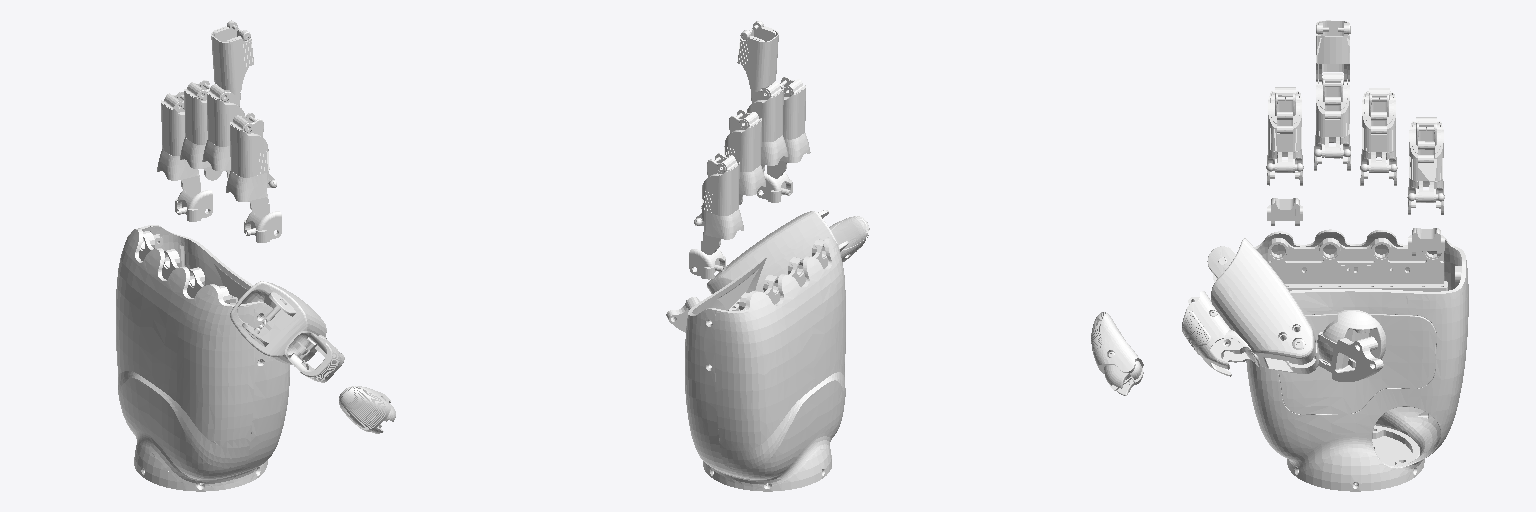
URDF robot description (linkerhand_l21_left):
<?xml version="1.0" encoding="utf-8"?>
<!-- This URDF was automatically created by SolidWorks to URDF Exporter! Originally created by [author] ([email redacted]) 
     Commit Version: 1.6.0-1-g15f4949  Build Version: 1.6.7594.29634
     For more information, please see http://wiki.ros.org/sw_urdf_exporter -->
<robot
  name="linkerhand_l21_left">
  <link
    name="hand_base_link">
    <inertial>
      <origin
        xyz="0.027711 0.0087195 0.076284"
        rpy="0 0 0" />
      <mass
        value="1.5785E-07" />
      <inertia
        ixx="4.2149E-15"
        ixy="2.3826E-15"
        ixz="7.6961E-16"
        iyy="5.6185E-14"
        iyz="-8.7449E-16"
        izz="5.3828E-14" />
    </inertial>
    <visual>
      <origin
        xyz="0 0 0"
        rpy="0 0 0" />
      <geometry>
        <mesh
          filename="meshes/hand_base_link.STL" />
      </geometry>
      <material
        name="">
        <color
          rgba="1 1 1 1" />
      </material>
    </visual>
    <collision>
      <origin
        xyz="0 0 0"
        rpy="0 0 0" />
      <geometry>
        <mesh
          filename="meshes/hand_base_link.STL" />
      </geometry>
    </collision>
  </link>
  <link
    name="index_metacarpals">
    <inertial>
      <origin
        xyz="0.0053256 0.0026647 -0.015279"
        rpy="0 0 0" />
      <mass
        value="0.00041989" />
      <inertia
        ixx="1.2323E-08"
        ixy="-1.6725E-11"
        ixz="4.7753E-10"
        iyy="5.5651E-09"
        iyz="7.8846E-11"
        izz="7.5215E-09" />
    </inertial>
    <visual>
      <origin
        xyz="0 0 0"
        rpy="0 0 0" />
      <geometry>
        <mesh
          filename="meshes/index_metacarpals.STL" />
      </geometry>
      <material
        name="">
        <color
          rgba="1 1 1 1" />
      </material>
    </visual>
    <collision>
      <origin
        xyz="0 0 0"
        rpy="0 0 0" />
      <geometry>
        <mesh
          filename="meshes/index_metacarpals.STL" />
      </geometry>
    </collision>
  </link>
  <joint
    name="index_mcp_roll"
    type="revolute">
    <origin
      xyz="0.0059834 -0.032908 0.13338"
      rpy="-0.0056645 0 0" />
    <parent
      link="hand_base_link" />
    <child
      link="index_metacarpals" />
    <axis
      xyz="1 0 0" />
    <limit
      lower="-0.18"
      upper="0.18"
      effort="100"
      velocity="1" />
  </joint>
  <link
    name="index_proximal">
    <inertial>
      <origin
        xyz="0.00827300262446084 0.0206946536676659 -0.0594111984214959"
        rpy="0 0 0" />
      <mass
        value="0.00310189617600549" />
      <inertia
        ixx="6.94827809852598E-06"
        ixy="-7.30360932101661E-07"
        ixz="-3.50357323679268E-07"
        iyy="3.62827463376843E-06"
        iyz="1.32196221507174E-06"
        izz="4.38448341497944E-06" />
    </inertial>
    <visual>
      <origin
        xyz="0 0 0"
        rpy="0 0 0" />
      <geometry>
        <mesh
          filename="meshes/index_proximal.STL" />
      </geometry>
      <material
        name="">
        <color
          rgba="1 1 1 1" />
      </material>
    </visual>
    <collision>
      <origin
        xyz="0 0 0"
        rpy="0 0 0" />
      <geometry>
        <mesh
          filename="meshes/index_proximal.STL" />
      </geometry>
    </collision>
  </link>
  <joint
    name="index_mcp_pitch"
    type="revolute">
    <origin
      xyz="0.002358 -0.00022359 0.018075"
      rpy="0 0 0" />
    <parent
      link="index_metacarpals" />
    <child
      link="index_proximal" />
    <axis
      xyz="0 1 0" />
    <limit
      lower="0"
      upper="1.57"
      effort="100"
      velocity="1" />
  </joint>
  <link
    name="index_middle">
    <inertial>
      <origin
        xyz="0.0084310026295624 0.0206979632977038 -0.103411198516156"
        rpy="0 0 0" />
      <mass
        value="0.00310189617600549" />
      <inertia
        ixx="6.94827809845368E-06"
        ixy="-7.303609322448E-07"
        ixz="-3.50357323896878E-07"
        iyy="3.62827463378371E-06"
        iyz="1.32196221500947E-06"
        izz="4.38448341503647E-06" />
    </inertial>
    <visual>
      <origin
        xyz="0 0 0"
        rpy="0 0 0" />
      <geometry>
        <mesh
          filename="meshes/index_middle.STL" />
      </geometry>
      <material
        name="">
        <color
          rgba="1 1 1 1" />
      </material>
    </visual>
    <collision>
      <origin
        xyz="0 0 0"
        rpy="0 0 0" />
      <geometry>
        <mesh
          filename="meshes/index_middle.STL" />
      </geometry>
    </collision>
  </link>
  <joint
    name="index_pip"
    type="revolute">
    <origin
      xyz="-0.000158 0 0.044"
      rpy="0 0 0" />
    <parent
      link="index_proximal" />
    <child
      link="index_middle" />
    <axis
      xyz="0 1 0" />
    <limit
      lower="0"
      upper="1.57"
      effort="100"
      velocity="1" />
  </joint>
  <link
    name="middle_metacarpals">
    <inertial>
      <origin
        xyz="0.00809602648732219 0.000967328077867452 -0.0158492205753797"
        rpy="0 0 0" />
      <mass
        value="0.000489979599946496" />
      <inertia
        ixx="1.70467250478746E-08"
        ixy="-2.49125202430984E-11"
        ixz="4.77383630918998E-10"
        iyy="6.25256440139051E-09"
        iyz="-7.03912454501969E-11"
        izz="1.16457113735344E-08" />
    </inertial>
    <visual>
      <origin
        xyz="0 0 0"
        rpy="0 0 0" />
      <geometry>
        <mesh
          filename="meshes/middle_metacarpals.STL" />
      </geometry>
      <material
        name="">
        <color
          rgba="1 1 1 1" />
      </material>
    </visual>
    <collision>
      <origin
        xyz="0 0 0"
        rpy="0 0 0" />
      <geometry>
        <mesh
          filename="meshes/middle_metacarpals.STL" />
      </geometry>
    </collision>
  </link>
  <joint
    name="middle_mcp_roll"
    type="revolute">
    <origin
      xyz="0.0059834 -0.010766 0.14075"
      rpy="-0.0056645 0 0" />
    <parent
      link="hand_base_link" />
    <child
      link="middle_metacarpals" />
    <axis
      xyz="1 0 0" />
    <limit
      lower="-0.18"
      upper="0.18"
      effort="100"
      velocity="1" />
  </joint>
  <link
    name="middle_proximal">
    <inertial>
      <origin
        xyz="0.00827258573746481 -0.00140534633098602 -0.0669111984292696"
        rpy="0 0 0" />
      <mass
        value="0.00310189617600549" />
      <inertia
        ixx="6.94827809852754E-06"
        ixy="-7.30360932098109E-07"
        ixz="-3.50357323677855E-07"
        iyy="3.62827463376687E-06"
        iyz="1.32196221507212E-06"
        izz="4.38448341497944E-06" />
    </inertial>
    <visual>
      <origin
        xyz="0 0 0"
        rpy="0 0 0" />
      <geometry>
        <mesh
          filename="meshes/middle_proximal.STL" />
      </geometry>
      <material
        name="">
        <color
          rgba="1 1 1 1" />
      </material>
    </visual>
    <collision>
      <origin
        xyz="0 0 0"
        rpy="0 0 0" />
      <geometry>
        <mesh
          filename="meshes/middle_proximal.STL" />
      </geometry>
    </collision>
  </link>
  <joint
    name="middle_mcp_pitch"
    type="revolute">
    <origin
      xyz="0.0023586 -0.0002236 0.018075"
      rpy="0 0 0" />
    <parent
      link="middle_metacarpals" />
    <child
      link="middle_proximal" />
    <axis
      xyz="0 1 0" />
    <limit
      lower="0"
      upper="1.57"
      effort="100"
      velocity="1" />
  </joint>
  <link
    name="middle_middle">
    <inertial>
      <origin
        xyz="0.00782855721567354 -0.00141464740089148 -0.110909241690445"
        rpy="0 0 0" />
      <mass
        value="0.00310189617600549" />
      <inertia
        ixx="6.94827809845522E-06"
        ixy="-7.30360932241238E-07"
        ixz="-3.50357323895577E-07"
        iyy="3.62827463378255E-06"
        iyz="1.32196221500995E-06"
        izz="4.38448341503608E-06" />
    </inertial>
    <visual>
      <origin
        xyz="0 0 0"
        rpy="0 0 0" />
      <geometry>
        <mesh
          filename="meshes/middle_middle.STL" />
      </geometry>
      <material
        name="">
        <color
          rgba="1 1 1 1" />
      </material>
    </visual>
    <collision>
      <origin
        xyz="0 0 0"
        rpy="0 0 0" />
      <geometry>
        <mesh
          filename="meshes/middle_middle.STL" />
      </geometry>
    </collision>
  </link>
  <joint
    name="middle_pip"
    type="revolute">
    <origin
      xyz="0.00044403 0 0.043998"
      rpy="0 0 0" />
    <parent
      link="middle_proximal" />
    <child
      link="middle_middle" />
    <axis
      xyz="0 1 0" />
    <limit
      lower="0"
      upper="1.57"
      effort="100"
      velocity="1" />
  </joint>
  <link
    name="ring_metacarpals">
    <inertial>
      <origin
        xyz="0.00568290695019562 0.00100546703192139 -0.0157134930728382"
        rpy="0 0 0" />
      <mass
        value="0.000471375650794161" />
      <inertia
        ixx="1.63734413760856E-08"
        ixy="-2.48713921673637E-11"
        ixz="4.77563154016997E-10"
        iyy="6.04018250418069E-09"
        iyz="-7.04143076046795E-11"
        izz="1.11386555110261E-08" />
    </inertial>
    <visual>
      <origin
        xyz="0 0 0"
        rpy="0 0 0" />
      <geometry>
        <mesh
          filename="meshes/ring_metacarpals.STL" />
      </geometry>
      <material
        name="">
        <color
          rgba="1 1 1 1" />
      </material>
    </visual>
    <collision>
      <origin
        xyz="0 0 0"
        rpy="0 0 0" />
      <geometry>
        <mesh
          filename="meshes/ring_metacarpals.STL" />
      </geometry>
    </collision>
  </link>
  <joint
    name="ring_mcp_roll"
    type="revolute">
    <origin
      xyz="0.0059834 0.010791 0.13313"
      rpy="-0.0056645 0 0" />
    <parent
      link="hand_base_link" />
    <child
      link="ring_metacarpals" />
    <axis
      xyz="1 0 0" />
    <limit
      lower="-0.18"
      upper="0.18"
      effort="100"
      velocity="1" />
  </joint>
  <link
    name="ring_proximal">
    <inertial>
      <origin
        xyz="0.00827216885200012 -0.0230051873236801 -0.0594111923224606"
        rpy="0 0 0" />
      <mass
        value="0.00310189617600549" />
      <inertia
        ixx="6.94827809852909E-06"
        ixy="-7.30360932087472E-07"
        ixz="-3.5035732369126E-07"
        iyy="3.62827463381894E-06"
        iyz="1.32196221508782E-06"
        izz="4.38448341492582E-06" />
    </inertial>
    <visual>
      <origin
        xyz="0 0 0"
        rpy="0 0 0" />
      <geometry>
        <mesh
          filename="meshes/ring_proximal.STL" />
      </geometry>
      <material
        name="">
        <color
          rgba="1 1 1 1" />
      </material>
    </visual>
    <collision>
      <origin
        xyz="0 0 0"
        rpy="0 0 0" />
      <geometry>
        <mesh
          filename="meshes/ring_proximal.STL" />
      </geometry>
    </collision>
  </link>
  <joint
    name="ring_mcp_pitch"
    type="revolute">
    <origin
      xyz="0.0023592 -0.0002236 0.018075"
      rpy="0 0 0" />
    <parent
      link="ring_metacarpals" />
    <child
      link="ring_proximal" />
    <axis
      xyz="0 1 0" />
    <limit
      lower="0"
      upper="1.57"
      effort="100"
      velocity="1" />
  </joint>
  <link
    name="ring_middle">
    <inertial>
      <origin
        xyz="0.00843016885556375 -0.0230018776948784 -0.103411192401526"
        rpy="0 0 0" />
      <mass
        value="0.00310189617600549" />
      <inertia
        ixx="6.94827809845368E-06"
        ixy="-7.30360932244799E-07"
        ixz="-3.50357323896877E-07"
        iyy="3.62827463378371E-06"
        iyz="1.32196221500947E-06"
        izz="4.38448341503647E-06" />
    </inertial>
    <visual>
      <origin
        xyz="0 0 0"
        rpy="0 0 0" />
      <geometry>
        <mesh
          filename="meshes/ring_middle.STL" />
      </geometry>
      <material
        name="">
        <color
          rgba="1 1 1 1" />
      </material>
    </visual>
    <collision>
      <origin
        xyz="0 0 0"
        rpy="0 0 0" />
      <geometry>
        <mesh
          filename="meshes/ring_middle.STL" />
      </geometry>
    </collision>
  </link>
  <joint
    name="ring_pip"
    type="revolute">
    <origin
      xyz="-0.000158 0 0.044"
      rpy="0 0 0" />
    <parent
      link="ring_proximal" />
    <child
      link="ring_middle" />
    <axis
      xyz="0 1 0" />
    <limit
      lower="0"
      upper="1.57"
      effort="100"
      velocity="1" />
  </joint>
  <link
    name="pinky_metacarpals">
    <inertial>
      <origin
        xyz="0.00770791352923251 -0.000457498596015515 -0.0154299306024431"
        rpy="0 0 0" />
      <mass
        value="0.000436259943198178" />
      <inertia
        ixx="1.28165947659315E-08"
        ixy="-3.35211054873818E-11"
        ixz="4.77347680805677E-10"
        iyy="5.75479262594543E-09"
        iyz="-2.2806555796648E-10"
        izz="7.86609440553176E-09" />
    </inertial>
    <visual>
      <origin
        xyz="0 0 0"
        rpy="0 0 0" />
      <geometry>
        <mesh
          filename="meshes/pinky_metacarpals.STL" />
      </geometry>
      <material
        name="">
        <color
          rgba="1 1 1 1" />
      </material>
    </visual>
    <collision>
      <origin
        xyz="0 0 0"
        rpy="0 0 0" />
      <geometry>
        <mesh
          filename="meshes/pinky_metacarpals.STL" />
      </geometry>
    </collision>
  </link>
  <joint
    name="pinky_mcp_roll"
    type="revolute">
    <origin
      xyz="0.0059834 0.032806 0.11807"
      rpy="-0.0056645 0 0" />
    <parent
      link="hand_base_link" />
    <child
      link="pinky_metacarpals" />
    <axis
      xyz="1 0 0" />
    <limit
      lower="-0.18"
      upper="0.18"
      effort="100"
      velocity="1" />
  </joint>
  <link
    name="pinky_proximal">
    <inertial>
      <origin
        xyz="0.00827175196559392 -0.0451053470230371 -0.0444732534937471"
        rpy="0 0 0" />
      <mass
        value="0.00310189617600549" />
      <inertia
        ixx="6.94827809852754E-06"
        ixy="-7.30360932090995E-07"
        ixz="-3.50357323692668E-07"
        iyy="3.6282746338205E-06"
        iyz="1.32196221508746E-06"
        izz="4.3844834149258E-06" />
    </inertial>
    <visual>
      <origin
        xyz="0 0 0"
        rpy="0 0 0" />
      <geometry>
        <mesh
          filename="meshes/pinky_proximal.STL" />
      </geometry>
      <material
        name="">
        <color
          rgba="1 1 1 1" />
      </material>
    </visual>
    <collision>
      <origin
        xyz="0 0 0"
        rpy="0 0 0" />
      <geometry>
        <mesh
          filename="meshes/pinky_proximal.STL" />
      </geometry>
    </collision>
  </link>
  <joint
    name="pinky_mcp_pitch"
    type="revolute">
    <origin
      xyz="0.0023598 -0.0002236 0.018075"
      rpy="0 0 0" />
    <parent
      link="pinky_metacarpals" />
    <child
      link="pinky_proximal" />
    <axis
      xyz="0 1 0" />
    <limit
      lower="0"
      upper="1.57"
      effort="100"
      velocity="1" />
  </joint>
  <link
    name="pinky_middle">
    <inertial>
      <origin
        xyz="0.00842975196858262 -0.0451020373939276 -0.0884732535762509"
        rpy="0 0 0" />
      <mass
        value="0.00310189617600549" />
      <inertia
        ixx="6.94827809845368E-06"
        ixy="-7.30360932244799E-07"
        ixz="-3.50357323896877E-07"
        iyy="3.62827463378371E-06"
        iyz="1.32196221500947E-06"
        izz="4.38448341503647E-06" />
    </inertial>
    <visual>
      <origin
        xyz="0 0 0"
        rpy="0 0 0" />
      <geometry>
        <mesh
          filename="meshes/pinky_middle.STL" />
      </geometry>
      <material
        name="">
        <color
          rgba="1 1 1 1" />
      </material>
    </visual>
    <collision>
      <origin
        xyz="0 0 0"
        rpy="0 0 0" />
      <geometry>
        <mesh
          filename="meshes/pinky_middle.STL" />
      </geometry>
    </collision>
  </link>
  <joint
    name="pinky_pip"
    type="revolute">
    <origin
      xyz="-0.000158 0 0.044"
      rpy="0 0 0" />
    <parent
      link="pinky_proximal" />
    <child
      link="pinky_middle" />
    <axis
      xyz="0 1 0" />
    <limit
      lower="0"
      upper="1.57"
      effort="100"
      velocity="1" />
  </joint>
  <link
    name="thumb_metacarpals_base1">
    <inertial>
      <origin
        xyz="-0.00825004343050429 0.00549999923187541 -0.0318466649750455"
        rpy="0 0 0" />
      <mass
        value="0.000312218028756713" />
      <inertia
        ixx="1.10352320577714E-08"
        ixy="1.51530066694108E-15"
        ixz="2.24883986234982E-17"
        iyy="1.03390792483618E-09"
        iyz="-9.75961461153178E-16"
        izz="1.09679882723771E-08" />
    </inertial>
    <visual>
      <origin
        xyz="0 0 0"
        rpy="0 0 0" />
      <geometry>
        <mesh
          filename="meshes/thumb_metacarpals_base1.STL" />
      </geometry>
      <material
        name="">
        <color
          rgba="1 1 1 1" />
      </material>
    </visual>
    <collision>
      <origin
        xyz="0 0 0"
        rpy="0 0 0" />
      <geometry>
        <mesh
          filename="meshes/thumb_metacarpals_base1.STL" />
      </geometry>
    </collision>
  </link>
  <joint
    name="thumb_cmc_roll"
    type="revolute">
    <origin
      xyz="0.002384 -0.002009 0.071277"
      rpy="-0.0056645 0 0" />
    <parent
      link="hand_base_link" />
    <child
      link="thumb_metacarpals_base1" />
    <axis
      xyz="-1 0 0" />
    <limit
      lower="-0.6"
      upper="0.6"
      effort="100"
      velocity="1" />
  </joint>
  <link
    name="thumb_metacarpals_base2">
    <inertial>
      <origin
        xyz="0.000318715623666761 -0.00718337748979808 0.00156863530629658"
        rpy="0 0 0" />
      <mass
        value="0.000612301579502896" />
      <inertia
        ixx="1.22173338759595E-08"
        ixy="-4.04328465962207E-10"
        ixz="-7.85625856505701E-10"
        iyy="2.54580972505203E-08"
        iyz="-8.83243860874543E-11"
        izz="1.4128984259509E-08" />
    </inertial>
    <visual>
      <origin
        xyz="0 0 0"
        rpy="0 0 0" />
      <geometry>
        <mesh
          filename="meshes/thumb_metacarpals_base2.STL" />
      </geometry>
      <material
        name="">
        <color
          rgba="1 1 1 1" />
      </material>
    </visual>
    <collision>
      <origin
        xyz="0 0 0"
        rpy="0 0 0" />
      <geometry>
        <mesh
          filename="meshes/thumb_metacarpals_base2.STL" />
      </geometry>
    </collision>
  </link>
  <joint
    name="thumb_cmc_yaw"
    type="revolute">
    <origin
      xyz="0.02725 -0.008383 -0.0024"
      rpy="0 0 0.00011487" />
    <parent
      link="thumb_metacarpals_base1" />
    <child
      link="thumb_metacarpals_base2" />
    <axis
      xyz="0 0 1" />
    <limit
      lower="0"
      upper="1.6"
      effort="100"
      velocity="1" />
  </joint>
  <link
    name="thumb_metacarpals">
    <inertial>
      <origin
        xyz="-0.0142748361598372 0.00532040432196624 0.00526552927499724"
        rpy="0 0 0" />
      <mass
        value="8.32841435663313E-05" />
      <inertia
        ixx="8.35185788663659E-10"
        ixy="-2.55411350654767E-15"
        ixz="1.71799639980897E-13"
        iyy="7.2277546470753E-10"
        iyz="-2.53341629842261E-13"
        izz="1.98745918720938E-10" />
    </inertial>
    <visual>
      <origin
        xyz="0 0 0"
        rpy="0 0 0" />
      <geometry>
        <mesh
          filename="meshes/thumb_metacarpals.STL" />
      </geometry>
      <material
        name="">
        <color
          rgba="1 1 1 1" />
      </material>
    </visual>
    <collision>
      <origin
        xyz="0 0 0"
        rpy="0 0 0" />
      <geometry>
        <mesh
          filename="meshes/thumb_metacarpals.STL" />
      </geometry>
    </collision>
  </link>
  <joint
    name="thumb_cmc_pitch"
    type="revolute">
    <origin
      xyz="0.0063626 -0.01451 0.0040125"
      rpy="3.1416 -1.5438 -1.6" />
    <parent
      link="thumb_metacarpals_base2" />
    <child
      link="thumb_metacarpals" />
    <axis
      xyz="0 1 0" />
    <limit
      lower="0"
      upper="1"
      effort="100"
      velocity="1" />
  </joint>
  <link
    name="thumb_proximal">
    <inertial>
      <origin
        xyz="-0.0184739779964296 -0.0002000000495994 0.0462329062867987"
        rpy="0 0 0" />
      <mass
        value="0.000276348923230502" />
      <inertia
        ixx="1.87209908989575E-09"
        ixy="-2.063629189239E-20"
        ixz="1.07714355532501E-10"
        iyy="1.86535523180589E-09"
        iyz="3.29607314612381E-19"
        izz="3.58579214390665E-09" />
    </inertial>
    <visual>
      <origin
        xyz="0 0 0"
        rpy="0 0 0" />
      <geometry>
        <mesh
          filename="meshes/thumb_proximal.STL" />
      </geometry>
      <material
        name="">
        <color
          rgba="1 1 1 1" />
      </material>
    </visual>
    <collision>
      <origin
        xyz="0 0 0"
        rpy="0 0 0" />
      <geometry>
        <mesh
          filename="meshes/thumb_proximal.STL" />
      </geometry>
    </collision>
  </link>
  <joint
    name="thumb_mcp"
    type="revolute">
    <origin
      xyz="-0.0039464 0 0.034242"
      rpy="0 0.026973 0" />
    <parent
      link="thumb_metacarpals" />
    <child
      link="thumb_proximal" />
    <axis
      xyz="0 1 0" />
    <limit
      lower="0"
      upper="1.57"
      effort="100"
      velocity="1" />
  </joint>
  <link
    name="thumb_distal">
    <inertial>
      <origin
        xyz="0.0178854812171841 0.019727222652815 -0.0945726187383213"
        rpy="0 0 0" />
      <mass
        value="0.00310189617600549" />
      <inertia
        ixx="4.69661957827236E-06"
        ixy="2.83090317743629E-07"
        ixz="-1.18320195426291E-06"
        iyy="6.90308365393113E-06"
        iyz="-8.67349614751342E-07"
        izz="3.36133291507035E-06" />
    </inertial>
    <visual>
      <origin
        xyz="0 0 0"
        rpy="0 0 0" />
      <geometry>
        <mesh
          filename="meshes/thumb_distal.STL" />
      </geometry>
      <material
        name="">
        <color
          rgba="1 1 1 1" />
      </material>
    </visual>
    <collision>
      <origin
        xyz="0 0 0"
        rpy="0 0 0" />
      <geometry>
        <mesh
          filename="meshes/thumb_distal.STL" />
      </geometry>
    </collision>
  </link>
  <joint
    name="thumb_ip"
    type="revolute">
    <origin
      xyz="-0.0056449 0 0.045952"
      rpy="0 -0.12449 0" />
    <parent
      link="thumb_proximal" />
    <child
      link="thumb_distal" />
    <axis
      xyz="0 1 0" />
    <limit
      lower="0"
      upper="1.57"
      effort="100"
      velocity="1" />
  </joint>
</robot>

--- Facts derived from the render (not from the file) ---
The picture shows the robot from 3 angles, left to right: view 1: azimuth 30°, elevation 25°; view 2: azimuth 150°, elevation 25°; view 3: azimuth 270°, elevation 25°; orthographic projection.
Robot: linkerhand_l21_left — 18 links, 17 joints (17 revolute); root link hand_base_link; default pose: all joints at 0.
Visible links, largest first — view 1: hand_base_link, thumb_metacarpals, index_proximal, pinky_proximal, middle_middle, middle_proximal, ring_proximal, thumb_distal, thumb_proximal, pinky_metacarpals, index_metacarpals; view 2: hand_base_link, thumb_metacarpals, pinky_proximal, ring_proximal, middle_middle, middle_proximal, index_proximal, thumb_distal, pinky_metacarpals, index_metacarpals; view 3: hand_base_link, thumb_metacarpals, thumb_proximal, pinky_proximal, index_proximal, ring_proximal, middle_proximal, thumb_distal, thumb_metacarpals_base1, thumb_metacarpals_base2, middle_middle, pinky_metacarpals (+1 smaller).
Boxes of the visible links, x1,y1,x2,y2 form: hand_base_link: (116, 225, 289, 491); thumb_metacarpals: (230, 281, 326, 364); index_proximal: (226, 113, 276, 213); pinky_proximal: (157, 92, 199, 191); middle_middle: (211, 20, 253, 94); middle_proximal: (202, 84, 244, 177); ring_proximal: (180, 80, 222, 180); thumb_distal: (339, 386, 395, 433); thumb_proximal: (285, 331, 344, 382); pinky_metacarpals: (175, 182, 212, 221); index_metacarpals: (244, 204, 281, 242); hand_base_link: (685, 237, 845, 491); thumb_metacarpals: (707, 210, 848, 293); pinky_proximal: (694, 153, 743, 250); ring_proximal: (724, 110, 765, 204); middle_middle: (737, 21, 778, 91); middle_proximal: (747, 82, 787, 171); index_proximal: (770, 77, 810, 173); thumb_distal: (829, 216, 869, 261); pinky_metacarpals: (689, 241, 725, 279); index_metacarpals: (757, 166, 792, 202); hand_base_link: (1246, 229, 1468, 491); thumb_metacarpals: (1207, 238, 1318, 373); thumb_proximal: (1182, 291, 1259, 376); pinky_proximal: (1407, 117, 1444, 214); index_proximal: (1266, 87, 1303, 185); ring_proximal: (1360, 88, 1397, 185); middle_proximal: (1314, 73, 1350, 170); thumb_distal: (1091, 312, 1143, 395); thumb_metacarpals_base1: (1317, 310, 1385, 370); thumb_metacarpals_base2: (1318, 332, 1383, 381); middle_middle: (1316, 20, 1350, 81); pinky_metacarpals: (1408, 228, 1444, 255).
Bounding box of the posed robot: 0.0844 × 0.1757 × 0.2316 m (x, y, z).
Meshes: 18 distinct files referenced, 13 mesh visuals loaded (13 binary STL); not drawn: 5 (reference not matched to a file when rendering).